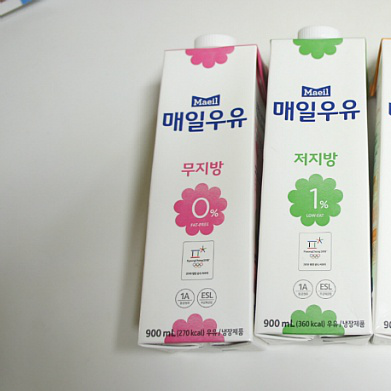milk: (136, 25, 391, 354)
